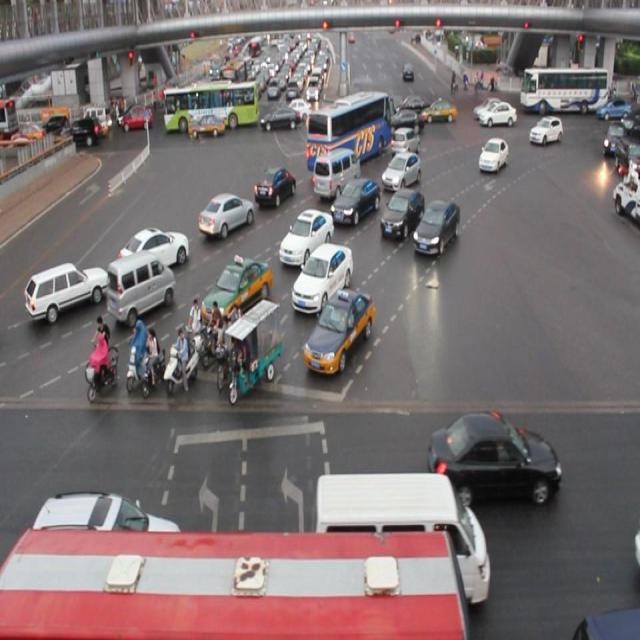car: (426, 410, 560, 503), (35, 490, 181, 564), (304, 289, 375, 377), (200, 251, 271, 326), (25, 262, 109, 323), (291, 242, 353, 314), (119, 225, 188, 279), (278, 204, 334, 268), (197, 190, 254, 237), (329, 176, 382, 226), (413, 201, 459, 253), (379, 187, 423, 241), (253, 167, 297, 210), (381, 152, 421, 190), (478, 136, 508, 174), (527, 117, 562, 145), (390, 125, 419, 156)
truck: (316, 472, 491, 610), (108, 251, 176, 324), (312, 151, 361, 197)
van: (1, 524, 464, 640), (306, 94, 391, 168)
